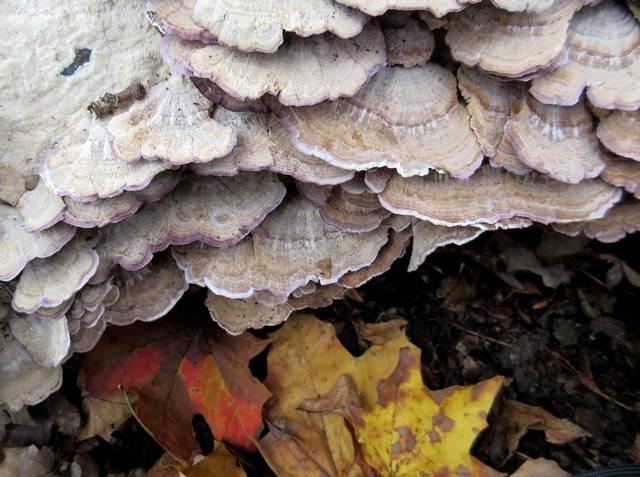poisonous_mushroom: (0, 0, 639, 412)
